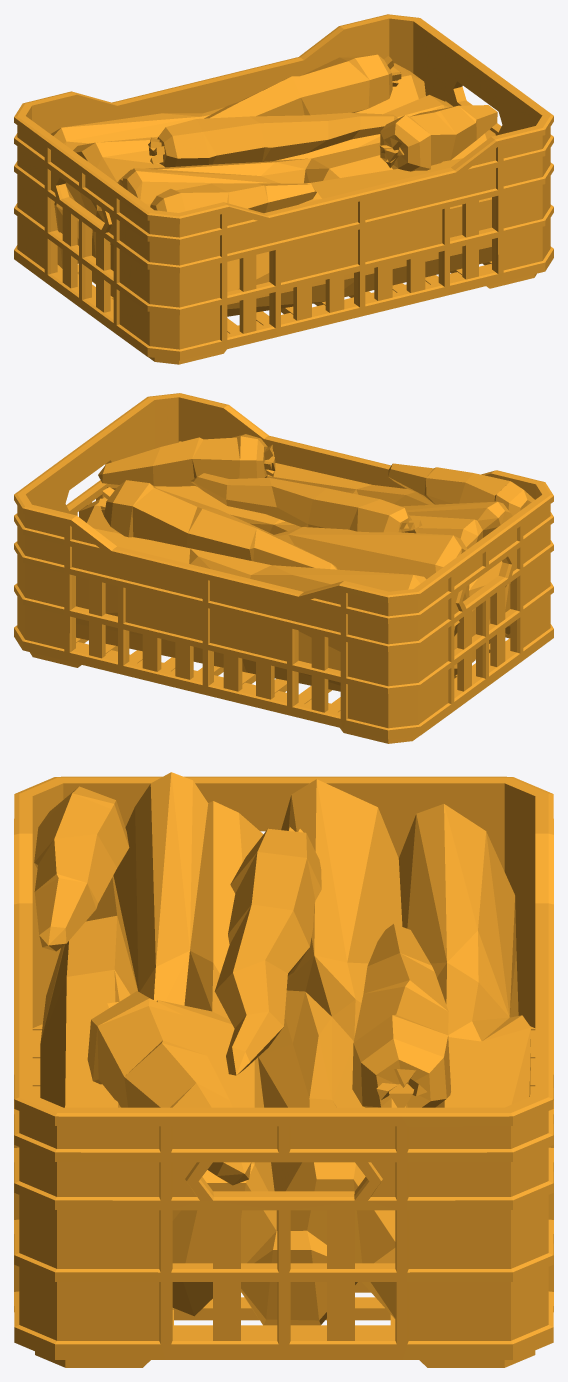
Rendered from SM_Crate_Plastic_Small_Carrots.fbx.
3 views of the same model, one above another, from view 1: azimuth 30°, elevation 25°; view 2: azimuth 150°, elevation 25°; view 3: azimuth 270°, elevation 25° (orthographic). The views are drawn at different scales.
Visible parts, largest first — view 1: crate-plastic-small-carrots; view 2: crate-plastic-small-carrots; view 3: crate-plastic-small-carrots.
Part boxes in pixels (x1=…): crate-plastic-small-carrots: x1=14, y1=14, x2=553, y2=364; crate-plastic-small-carrots: x1=14, y1=393, x2=553, y2=743; crate-plastic-small-carrots: x1=14, y1=772, x2=553, y2=1367.
Bounding box in the file's own units: 0.6083 × 0.2361 × 0.4083.
